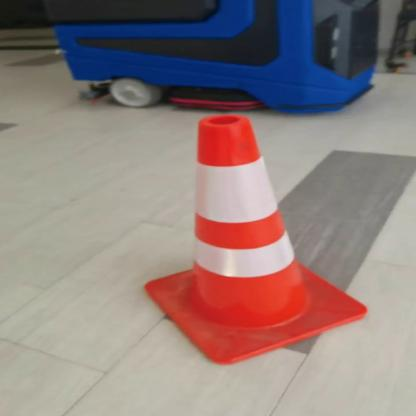cone: (128, 108, 378, 370)
